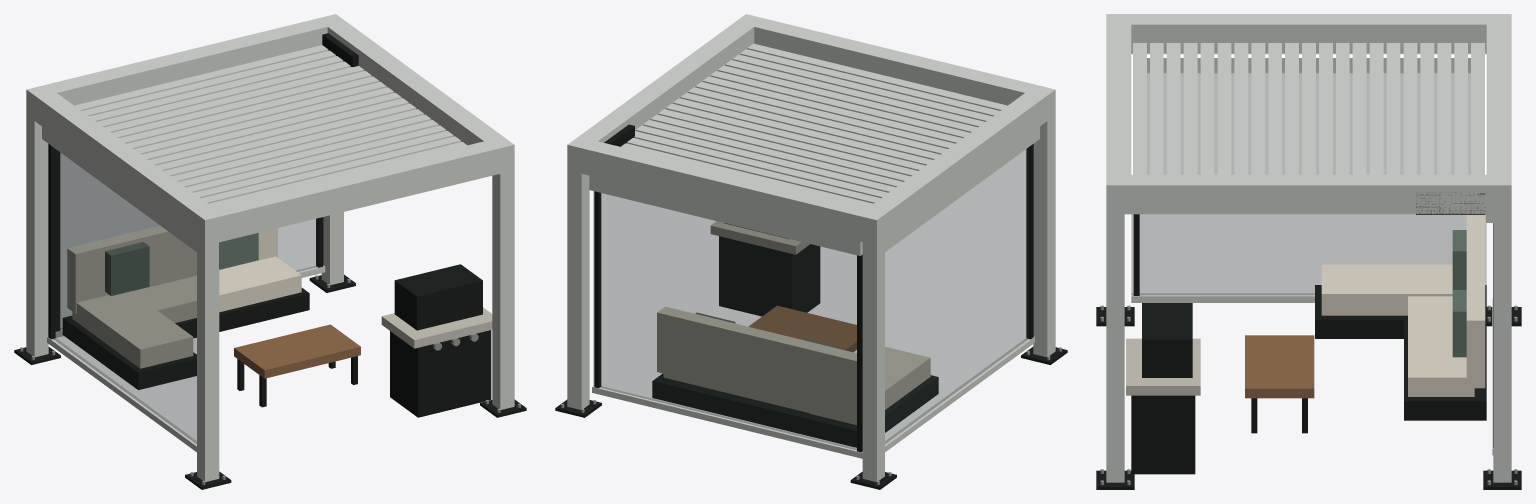
File: coordinatez-axis-10x10-cloud.glb
3 renders of one model, left to right at view 1: azimuth 30°, elevation 25°; view 2: azimuth 150°, elevation 25°; view 3: azimuth 270°, elevation 25°, orthographic. The views are drawn at different scales.
Visible parts, largest first — view 1: Left motorized wall, Structural post (×4), Front motor beam, Rear drainage beam, Left beam, Rear motorized wall, BBQ cabinet, Right beam, Sofa back, Chaise cushion, Sofa seat, BBQ hood (+30 smaller); view 2: Rear motorized wall, Left motorized wall, Structural post (×3), Sofa back, Rear drainage beam, Front motor beam, Left beam, BBQ cabinet, Right beam, Sofa base, Rear wall cassette, Rear wall guide (×2) (+28 smaller); view 3: Left motorized wall, Right beam, Left beam, Structural post (×2), Chaise cushion, BBQ cabinet, Sofa seat, Front motor beam, Rear drainage beam, Coffee table top, BBQ hood, Sofa back (+30 smaller).
Boxes of the visible parts, left/top/right/bottom form: Left motorized wall: left=53, top=147, right=196, bottom=443; Structural post (×4): left=26, top=115, right=514, bottom=481; Front motor beam: left=194, top=137, right=514, bottom=245; Rear drainage beam: left=26, top=14, right=346, bottom=122; Left beam: left=26, top=85, right=224, bottom=245; Rear motorized wall: left=61, top=154, right=323, bottom=328; BBQ cabinet: left=390, top=330, right=491, bottom=417; Right beam: left=318, top=17, right=514, bottom=174; Sofa back: left=67, top=226, right=277, bottom=313; Chaise cushion: left=72, top=291, right=193, bottom=368; Sofa seat: left=132, top=256, right=301, bottom=322; BBQ hood: left=394, top=264, right=482, bottom=330; Rear motorized wall: left=593, top=191, right=856, bottom=449; Left motorized wall: left=885, top=147, right=1028, bottom=443; Structural post (×3): left=567, top=115, right=1055, bottom=481; Sofa back: left=657, top=306, right=856, bottom=420; Rear drainage beam: left=567, top=136, right=887, bottom=244; Front motor beam: left=735, top=14, right=1055, bottom=122; Left beam: left=857, top=85, right=1055, bottom=245; BBQ cabinet: left=719, top=236, right=820, bottom=316; Right beam: left=567, top=15, right=763, bottom=174; Sofa base: left=652, top=373, right=898, bottom=447; Rear wall cassette: left=589, top=175, right=862, bottom=255; Rear wall guide (×2): left=594, top=191, right=862, bottom=452; Left motorized wall: left=1131, top=73, right=1486, bottom=294; Right beam: left=1106, top=174, right=1511, bottom=214; Left beam: left=1106, top=14, right=1511, bottom=53; Structural post (×2): left=1106, top=214, right=1511, bottom=482; Chaise cushion: left=1321, top=264, right=1452, bottom=315; BBQ cabinet: left=1131, top=395, right=1195, bottom=474; Sofa seat: left=1408, top=296, right=1474, bottom=396; Front motor beam: left=1106, top=14, right=1131, bottom=214; Rear drainage beam: left=1486, top=14, right=1511, bottom=214; Coffee table top: left=1245, top=335, right=1314, bottom=398; BBQ hood: left=1142, top=303, right=1192, bottom=377; Sofa back: left=1466, top=215, right=1485, bottom=388.
Size of the model in its own units: 3.2 by 2.49 by 3.2.
